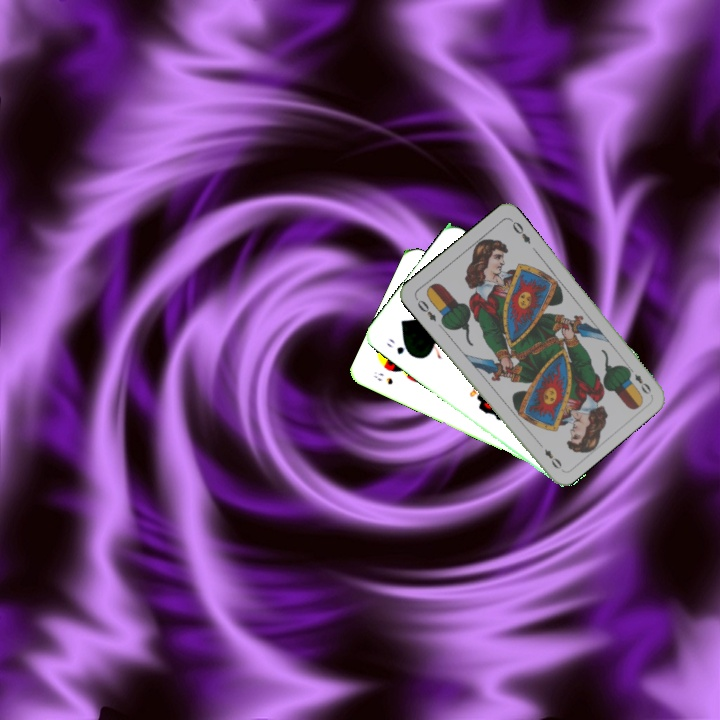EO: (623, 362, 654, 397), (413, 296, 439, 324)
GO: (383, 334, 416, 359)
S8: (370, 367, 395, 387)
